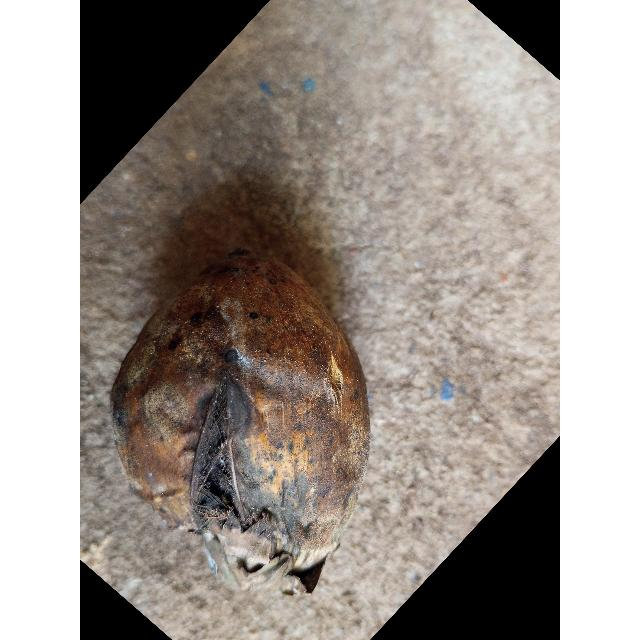damaged: (112, 249, 370, 595)
